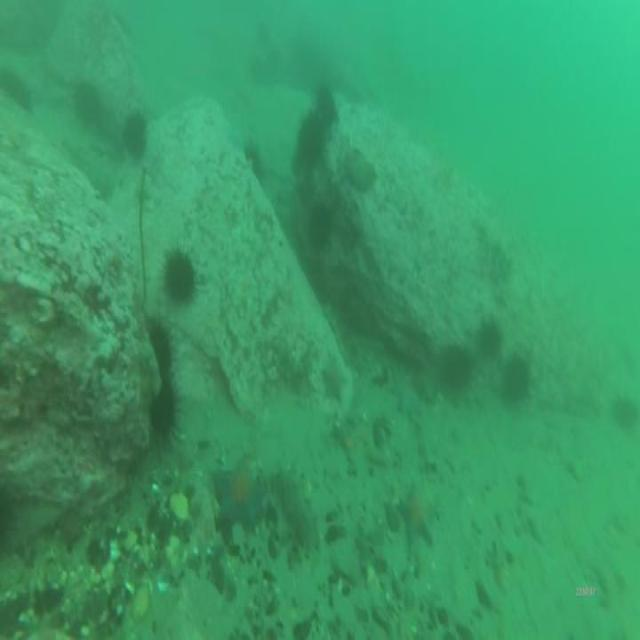echinus: (433, 338, 475, 405), (147, 376, 183, 454), (159, 242, 199, 310), (293, 106, 329, 174), (495, 350, 533, 412), (146, 316, 177, 384), (305, 196, 336, 261), (119, 102, 149, 168), (70, 76, 104, 134), (0, 65, 36, 115), (475, 310, 504, 363), (608, 390, 640, 434), (241, 139, 266, 188), (314, 80, 339, 126)
holothurian: (268, 465, 320, 556)
starfish: (208, 450, 271, 542), (396, 477, 438, 556), (388, 370, 425, 423), (316, 349, 348, 406)
